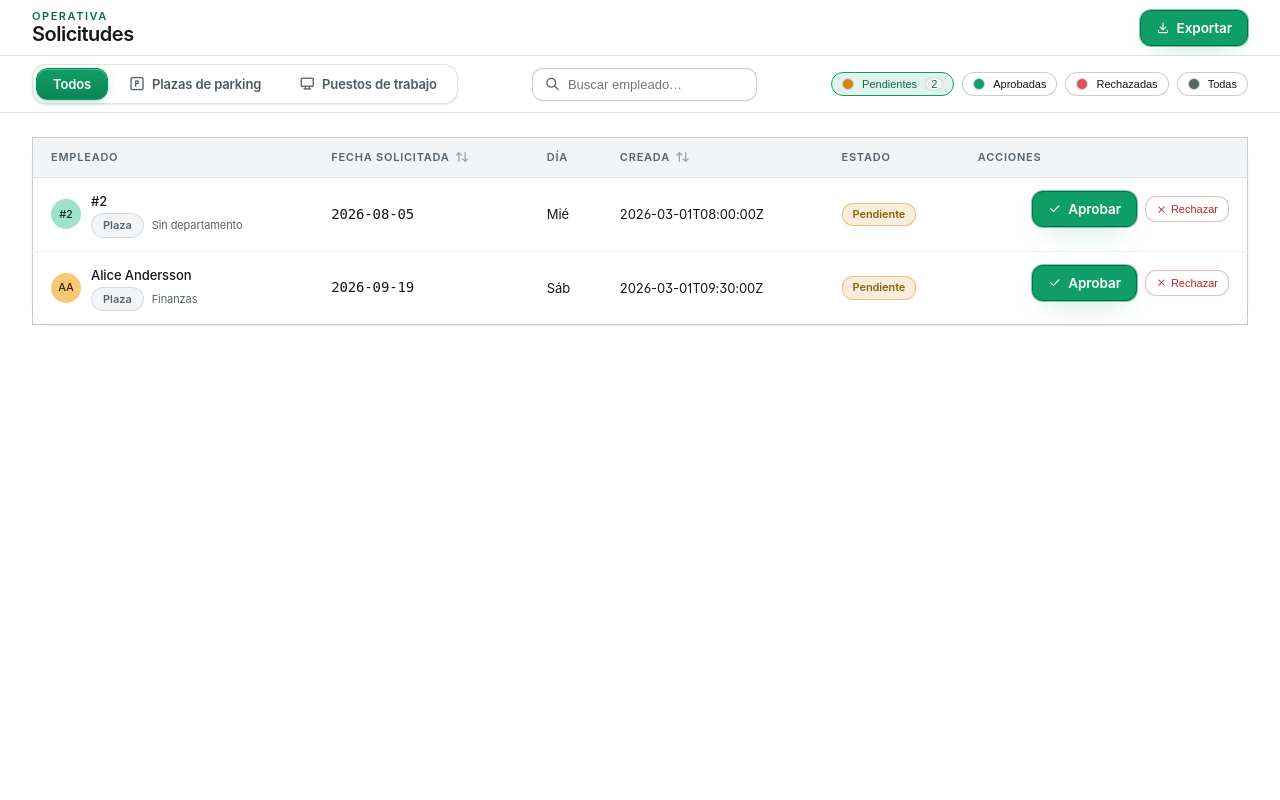
PendingRequestsPage (ADMIN) › should_approve_request_when_space_available
The image size is (1280, 800).
Click the button "Aprobar" in the row of "Sin departamento" at (1084, 209), box [1032, 191, 1137, 227]
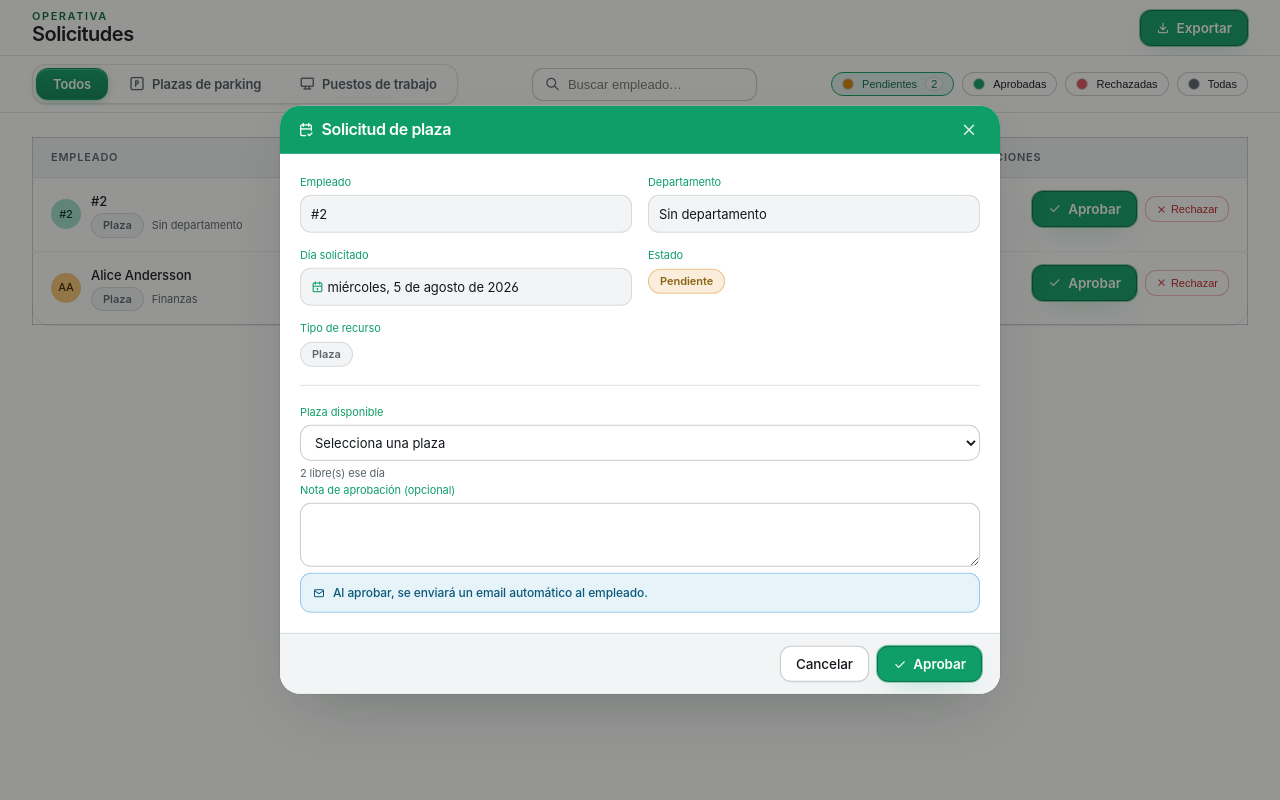
Now the dialog is shown, box [280, 106, 1000, 694]
Select "P-01" in the dropdown labelled "Plaza disponible" at (640, 443), box [300, 425, 980, 461]
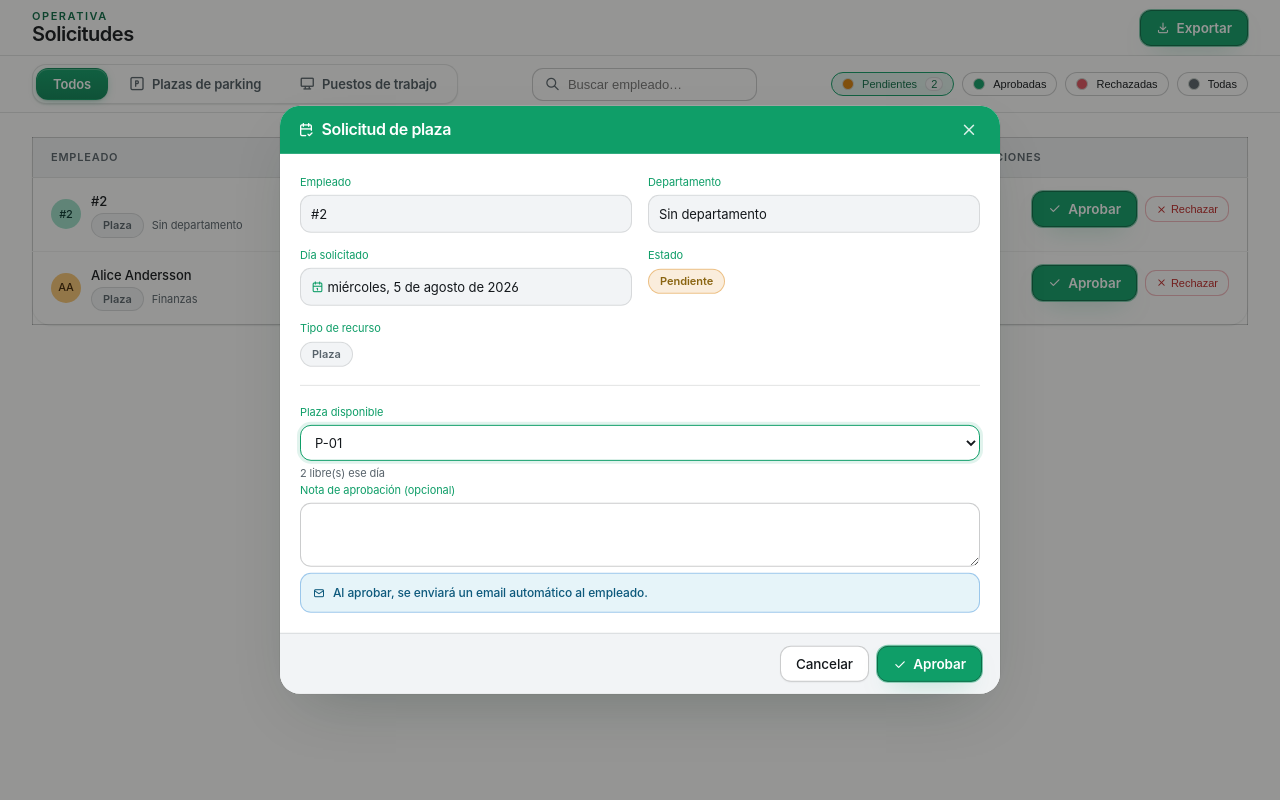
Type "ok" into the text box labelled "Nota de aprobación (opcional)" at (640, 535), box [300, 503, 980, 567]
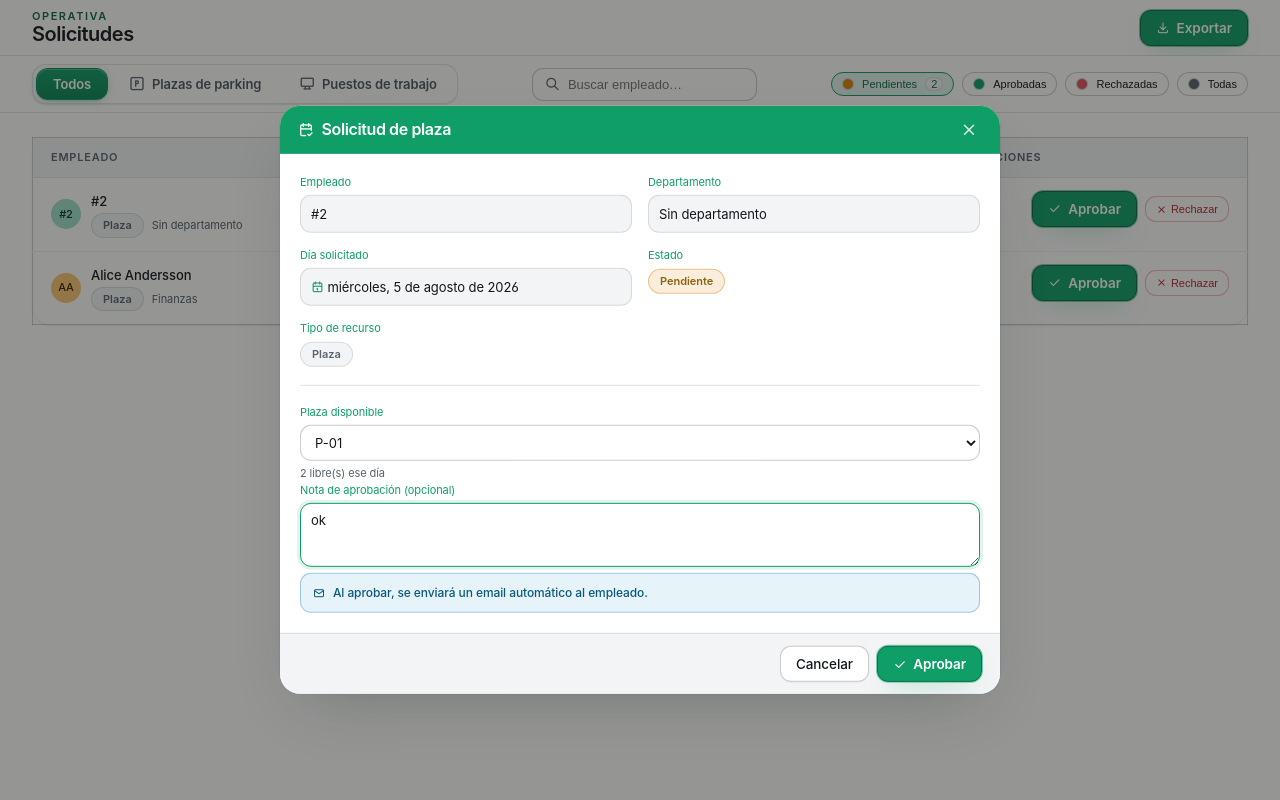
Click the button "Aprobar" at (929, 664), box [877, 646, 982, 682]
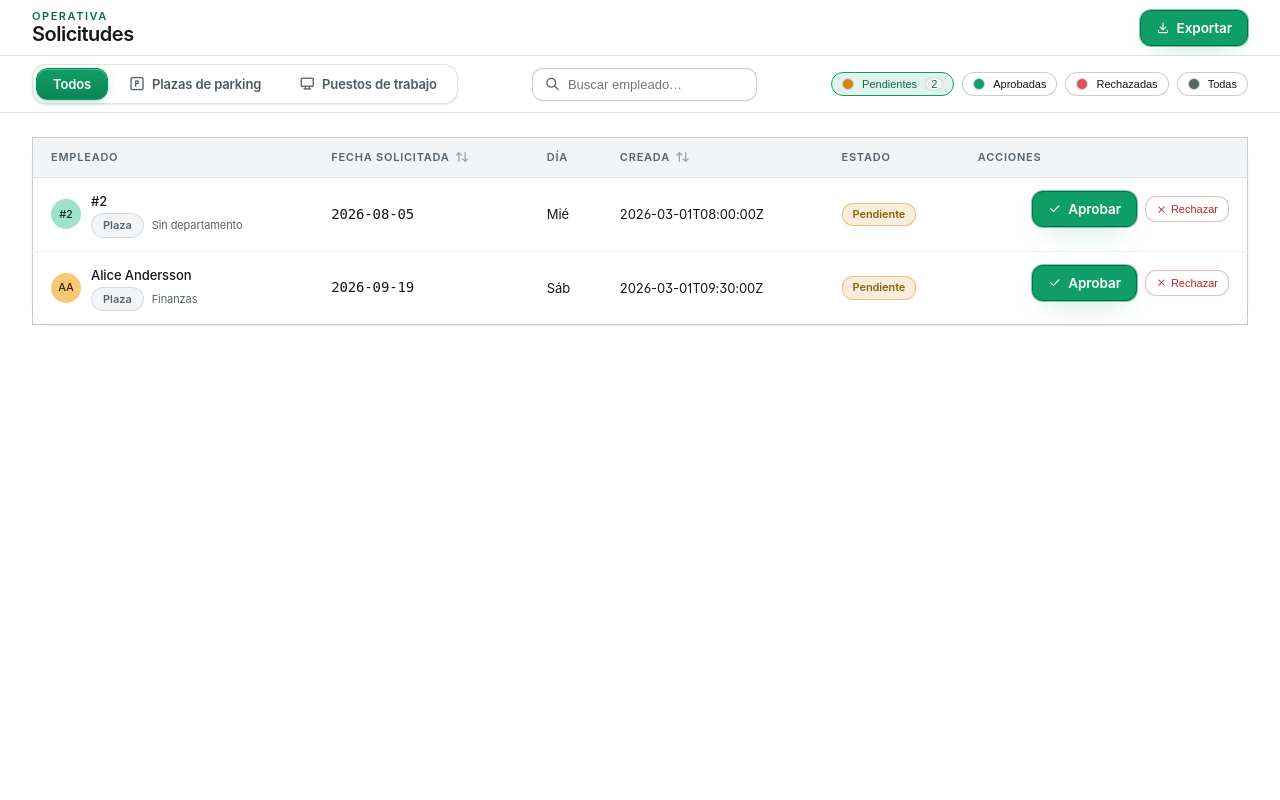
Now the dialog is gone
